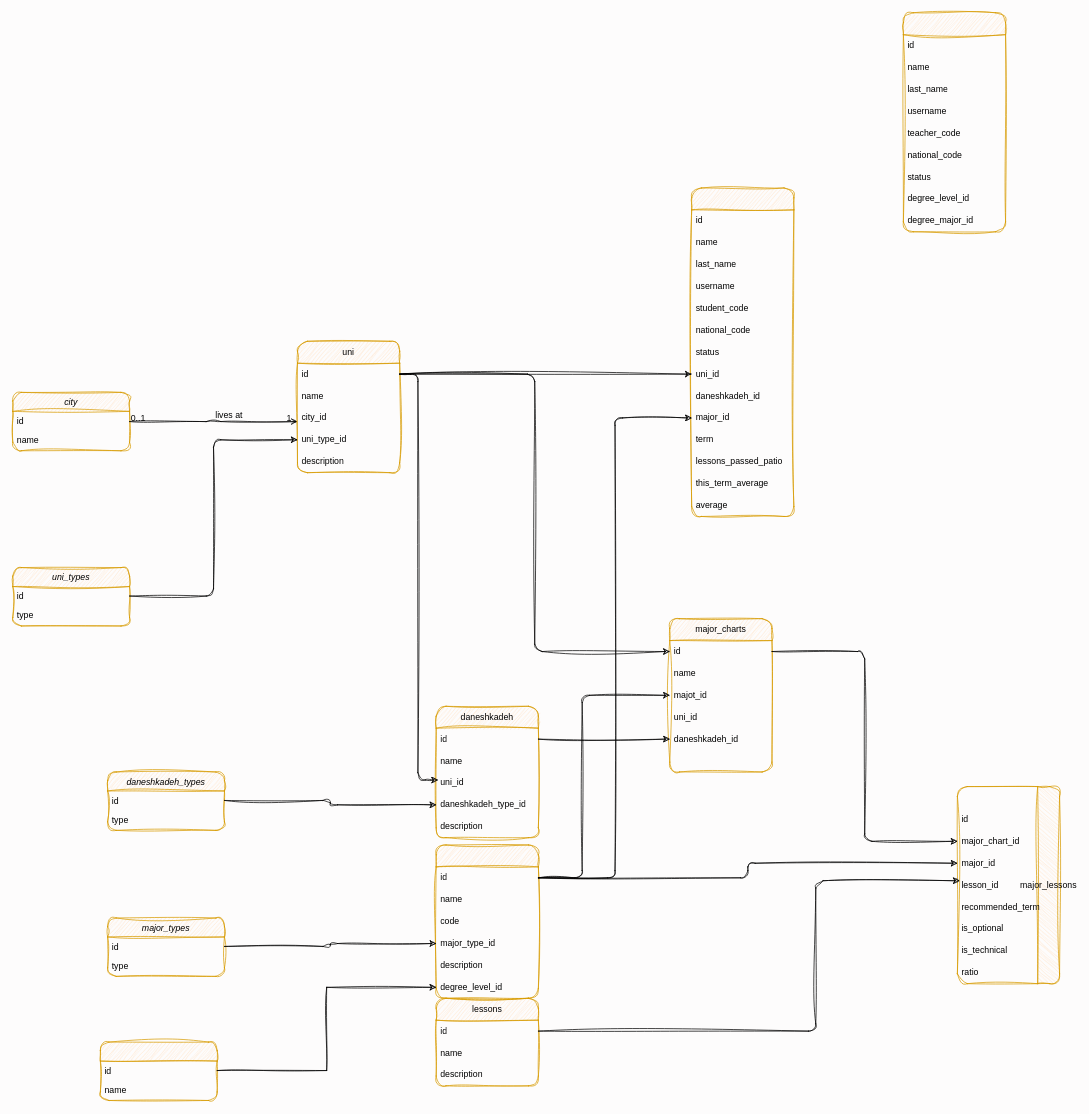
Image size: 1089x1114. Some labels were removed from this diagram. The box of each missing label's shape, as (x1, y1, x2, y2) in pixels:
degree_levels: (100, 1041, 217, 1100)
majors: (435, 844, 538, 998)
students: (691, 187, 794, 516)
teachers: (903, 12, 1006, 232)
